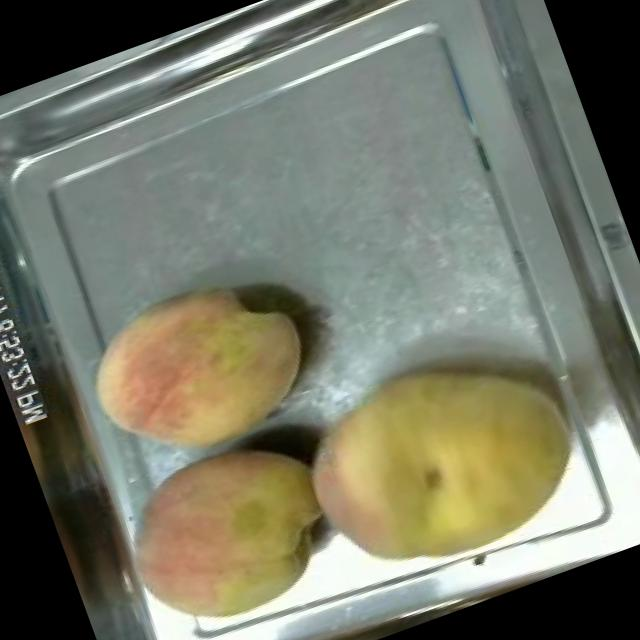Fruit: (270, 313, 610, 616), (61, 249, 336, 494), (93, 413, 362, 640)
